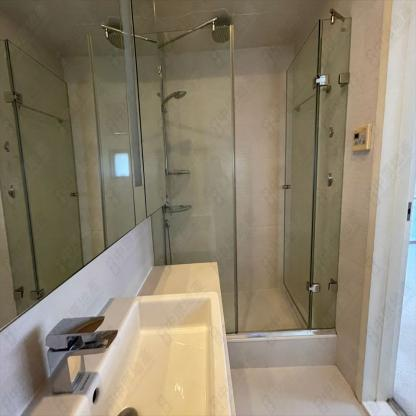Faucet: (45, 314, 118, 390)
Toilet Sink: (19, 290, 231, 415)
Water Cubicle: (135, 17, 351, 330)
